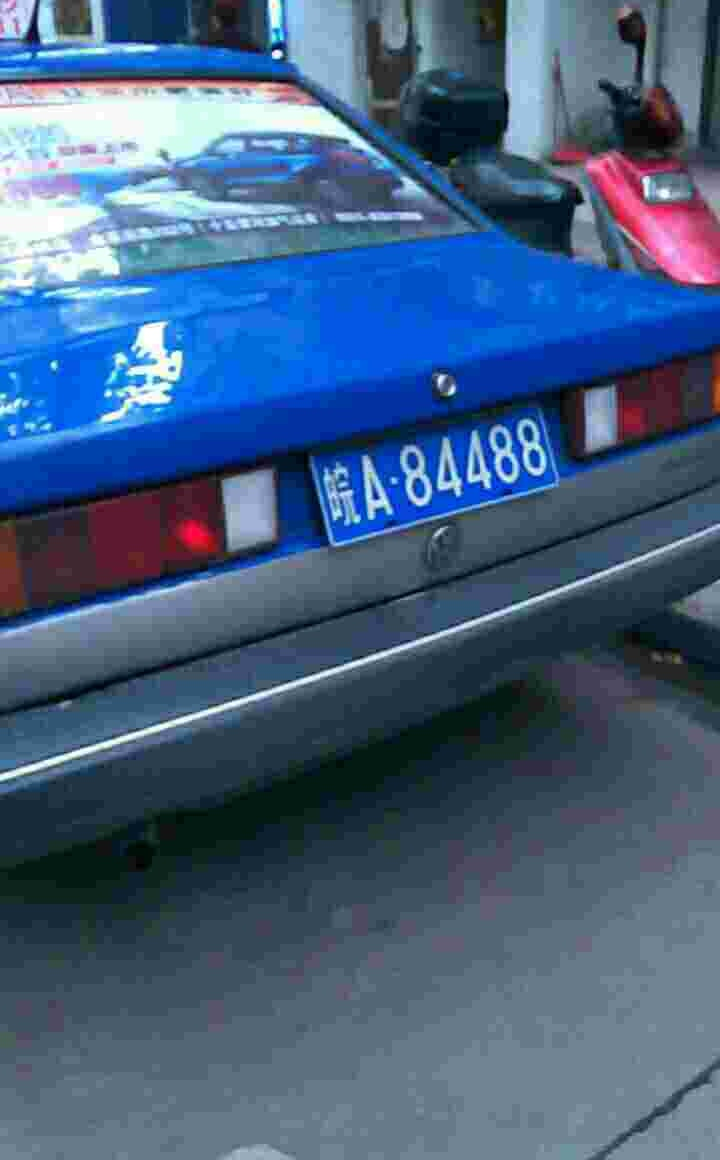license_plate: (311, 409, 570, 542)
